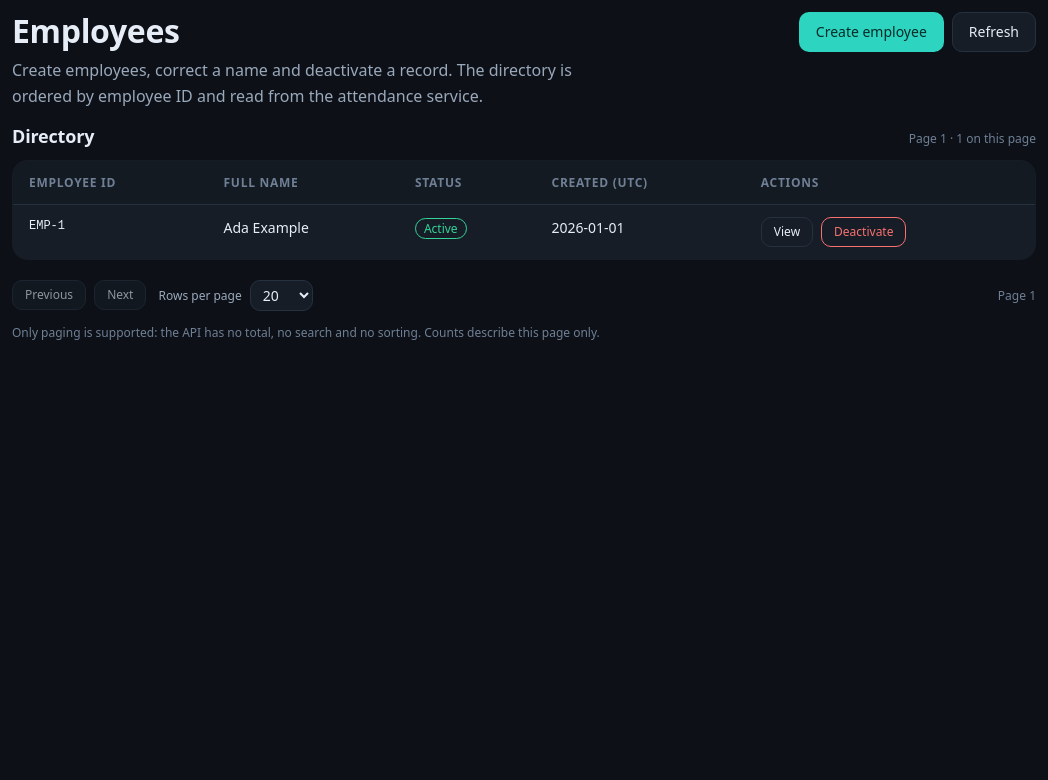
Test case: service failures › keeps an uncertain create outcome unclaimed and unretried
The width and height of the screenshot is (1048, 780).
Expected: the text "EMP-1" is shown, 29,219 -> 65,233
Click the button "Create employee": (871, 32) 799,12 -> 944,52
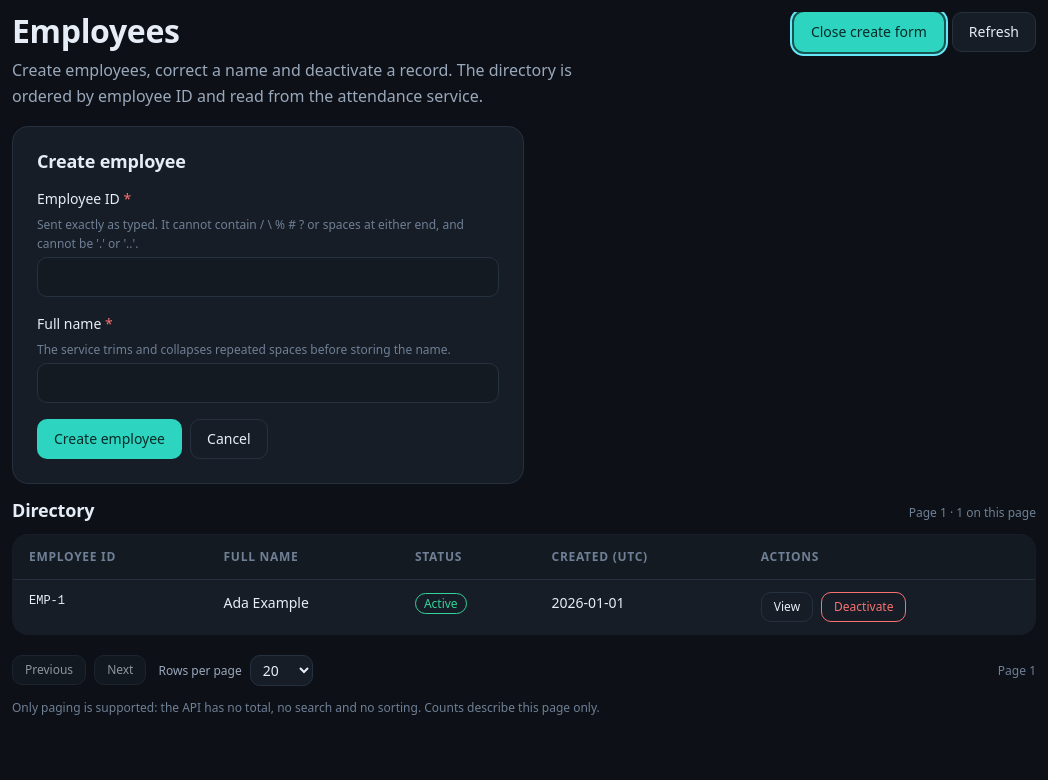
In the field labelled "Employee ID *": (268, 277) 37,257 -> 499,297, type "EMP-2"
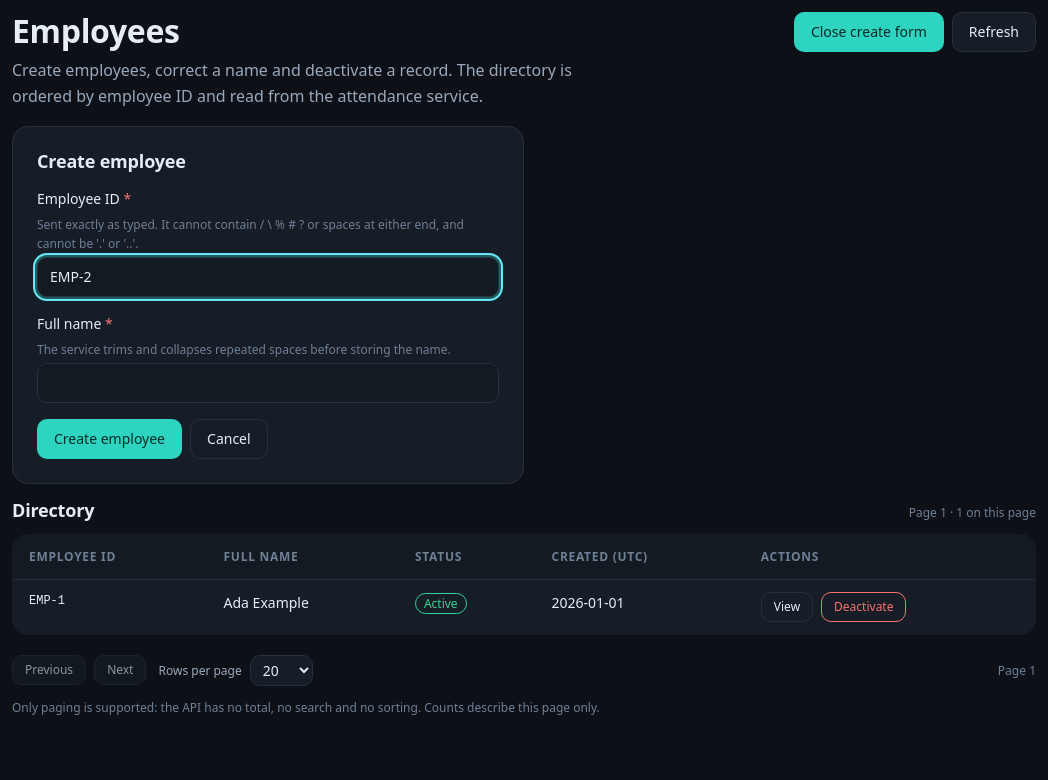
In the field labelled "Full name *": (268, 383) 37,363 -> 499,403, type "Grace Example"
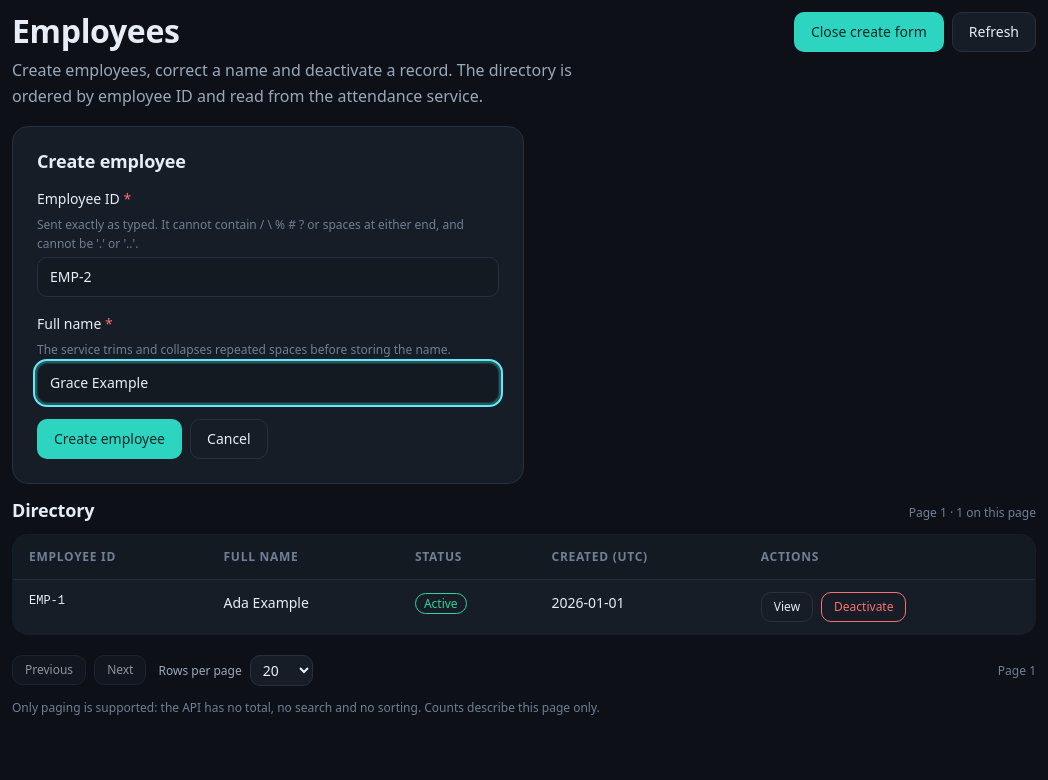
Click the button "Create employee": (110, 439) 37,419 -> 182,459
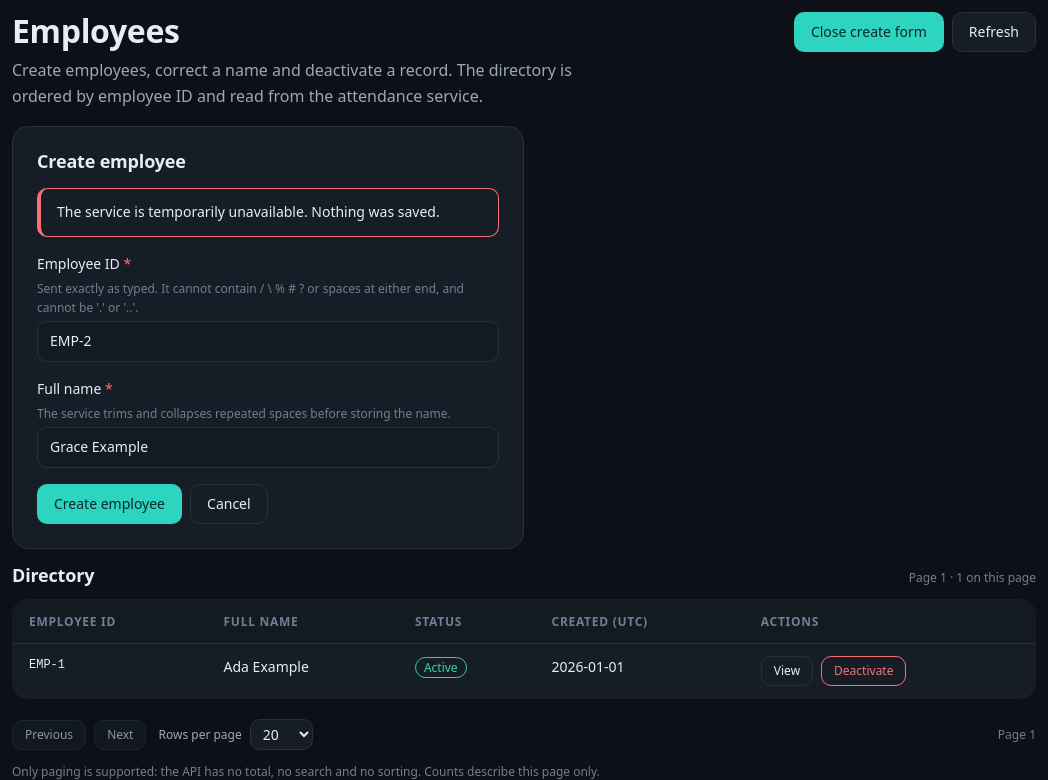
Result: the message reads "The service is temporarily unavailable. Nothing was saved." at 57,202 -> 440,221
